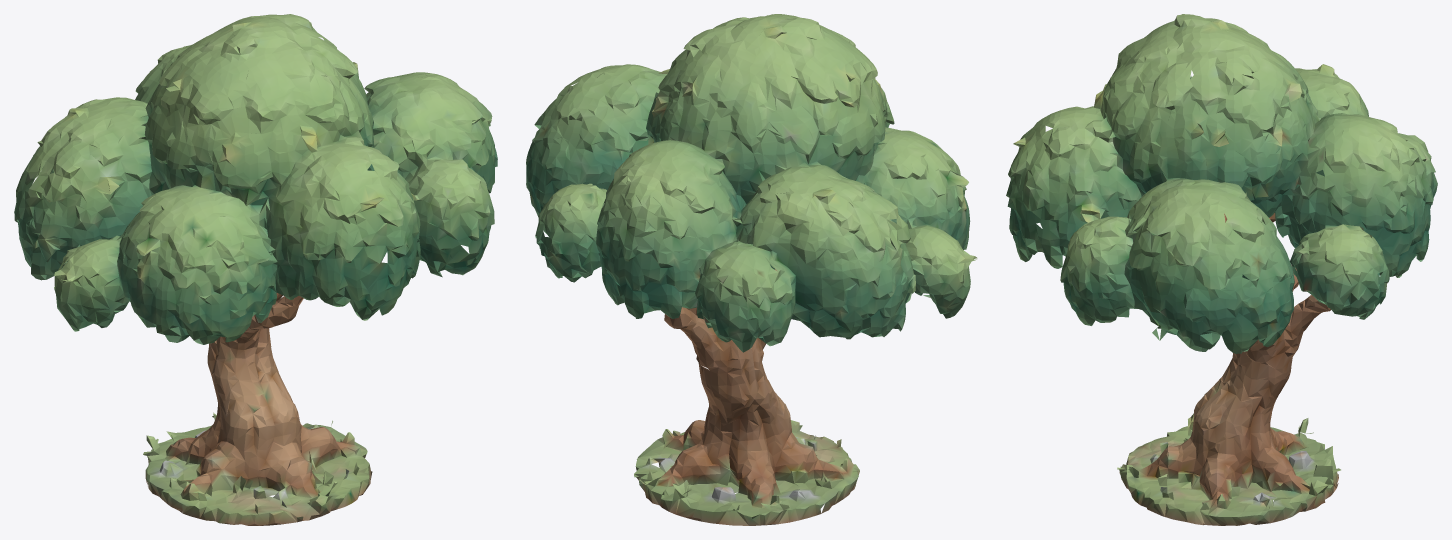
File: world_stylized_tree_lod0.glb
3 views of the same model, side by side, from view 1: azimuth 30°, elevation 25°; view 2: azimuth 150°, elevation 25°; view 3: azimuth 270°, elevation 25° (orthographic). The views are drawn at different scales.
Visible parts, largest first — view 1: world; view 2: world; view 3: world.
Boxes of the visible parts, left/top/right/bottom form: world: left=14, top=14, right=497, bottom=525; world: left=526, top=14, right=977, bottom=525; world: left=1006, top=14, right=1437, bottom=525.
Bounding box in the file's own units: 1.88 × 1.89 × 1.65.
